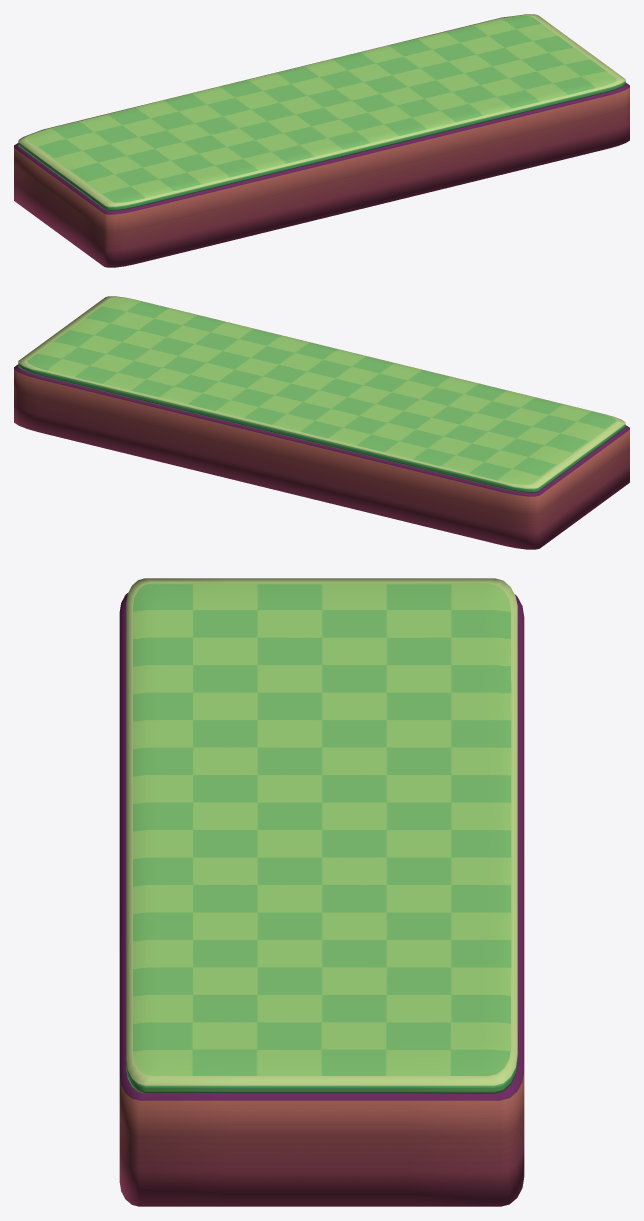
3 views of the same model, one above another, from view 1: azimuth 30°, elevation 25°; view 2: azimuth 150°, elevation 25°; view 3: azimuth 270°, elevation 25° (orthographic). The views are drawn at different scales.
Parts seen in each view (by area): view 1: Platform Grass 18, Platform Soil 18; view 2: Platform Grass 18, Platform Soil 18; view 3: Platform Grass 18, Platform Soil 18.
Part boxes in pixels (left/top/right/bottom): Platform Grass 18: left=18, top=14, right=625, bottom=210; Platform Soil 18: left=14, top=82, right=629, bottom=267; Platform Grass 18: left=18, top=296, right=625, bottom=492; Platform Soil 18: left=14, top=364, right=629, bottom=549; Platform Grass 18: left=126, top=578, right=517, bottom=1093; Platform Soil 18: left=119, top=593, right=524, bottom=1206.
Size of the model in its own units: 1800 by 200 by 600.
2 materials, 2 textured.
